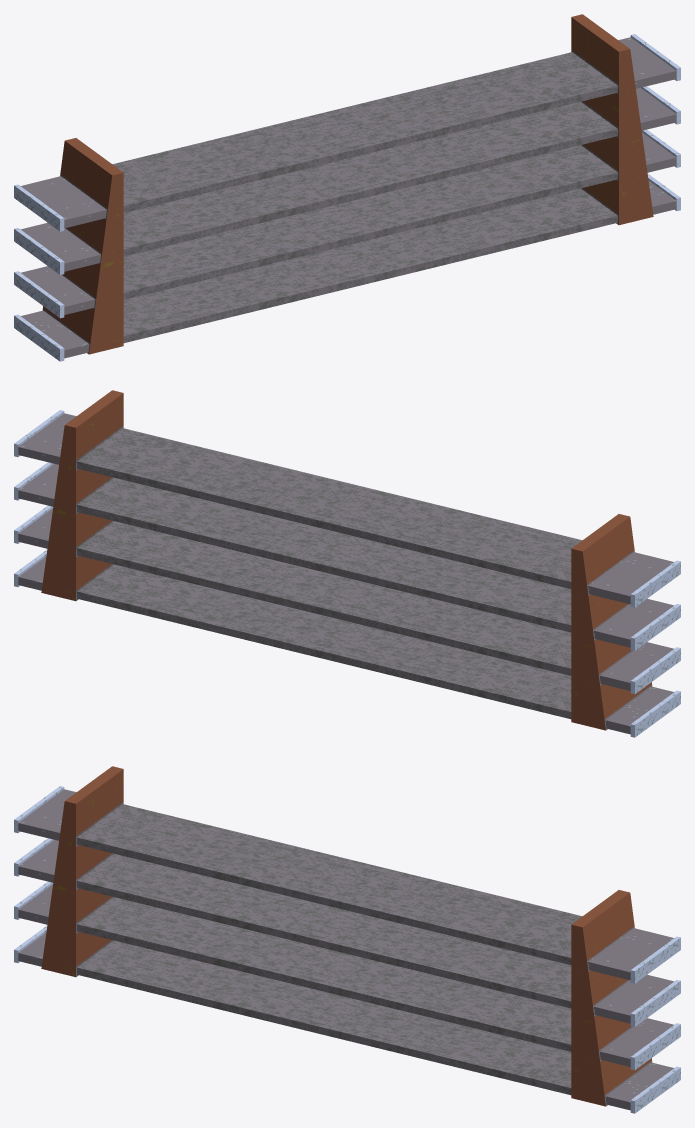
Rendered from Shelf.fbx.
3 renders of one model, top to bottom at view 1: azimuth 30°, elevation 25°; view 2: azimuth 150°, elevation 25°; view 3: azimuth 330°, elevation 25°, orthographic.
Parts seen in each view (by area): view 1: shelf; view 2: shelf; view 3: shelf.
Part boxes in pixels (bbox=[...]): shelf: bbox=[14, 14, 680, 361]; shelf: bbox=[14, 390, 680, 737]; shelf: bbox=[14, 766, 680, 1113].
Bounding box in the file's own units: 7.52 × 2.02 × 1.
